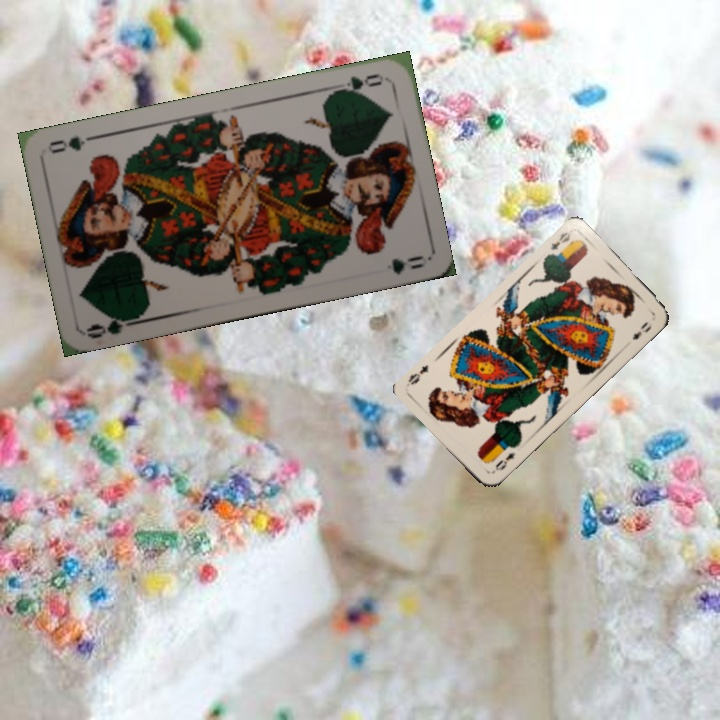EO: (488, 448, 518, 476), (546, 228, 574, 253)
GO: (84, 310, 143, 341), (330, 69, 388, 97)
